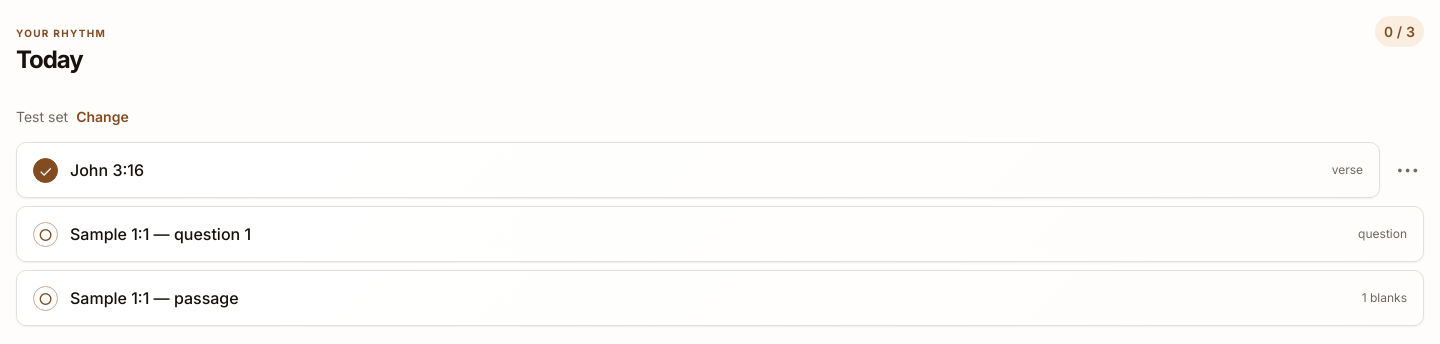
it: TodayView › keeps memory status in verse details instead of review groups
Click the button with test id "verse-detail": [1408, 170] box [1392,154,1424,186]
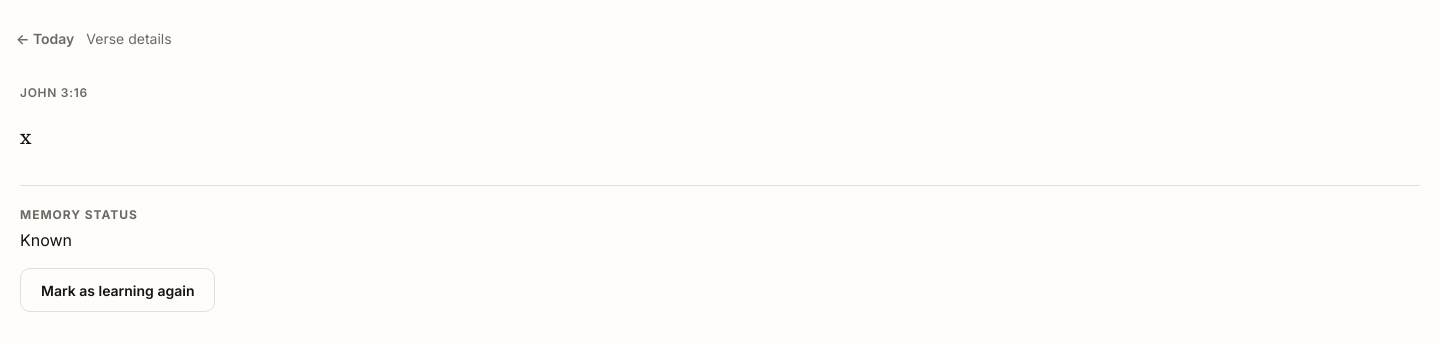
Expected: the text "Memory status" is shown, [20,207,138,222]
Expected: the text "Known" is shown, [20,230,72,250]
